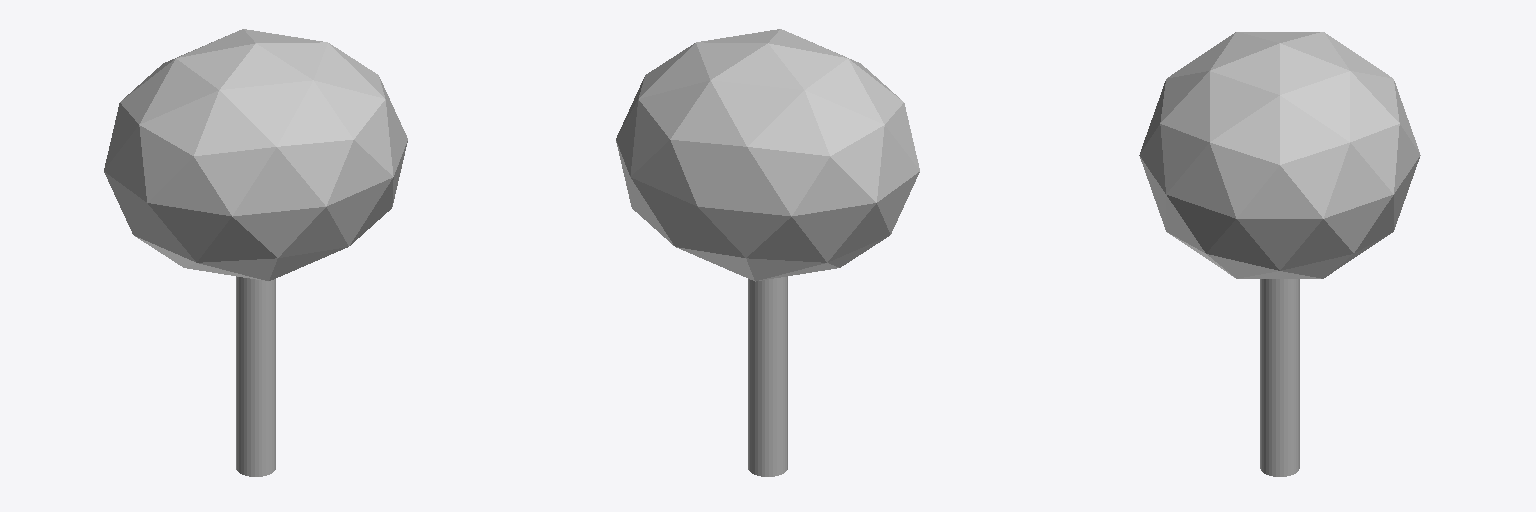
Rendered from drzewo.obj.
The picture shows the model from 3 angles: view 1: azimuth 30°, elevation 25°; view 2: azimuth 150°, elevation 25°; view 3: azimuth 270°, elevation 25°; orthographic projection.
Visible parts, largest first — view 1: Icosphere, Cylinder; view 2: Icosphere, Cylinder; view 3: Icosphere, Cylinder.
Boxes of the visible parts, x1,y1,x2,y2 form: Icosphere: [104, 29, 407, 281]; Cylinder: [236, 276, 275, 476]; Icosphere: [616, 29, 919, 281]; Cylinder: [748, 276, 787, 476]; Icosphere: [1139, 32, 1420, 278]; Cylinder: [1260, 279, 1299, 476].
Bounding box in the file's own units: 3.68 × 5.73 × 3.44.